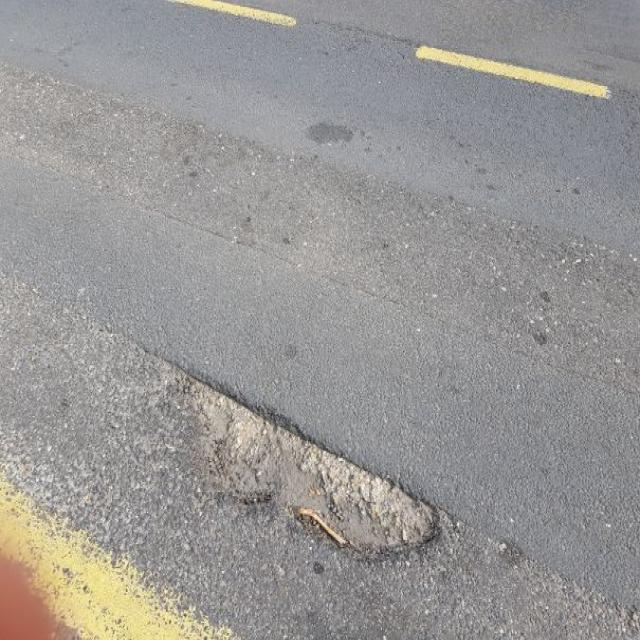pothole: (142, 347, 446, 557)
